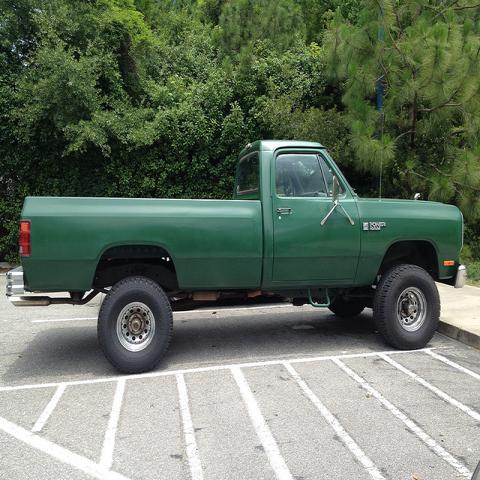truck: (9, 142, 467, 373)
